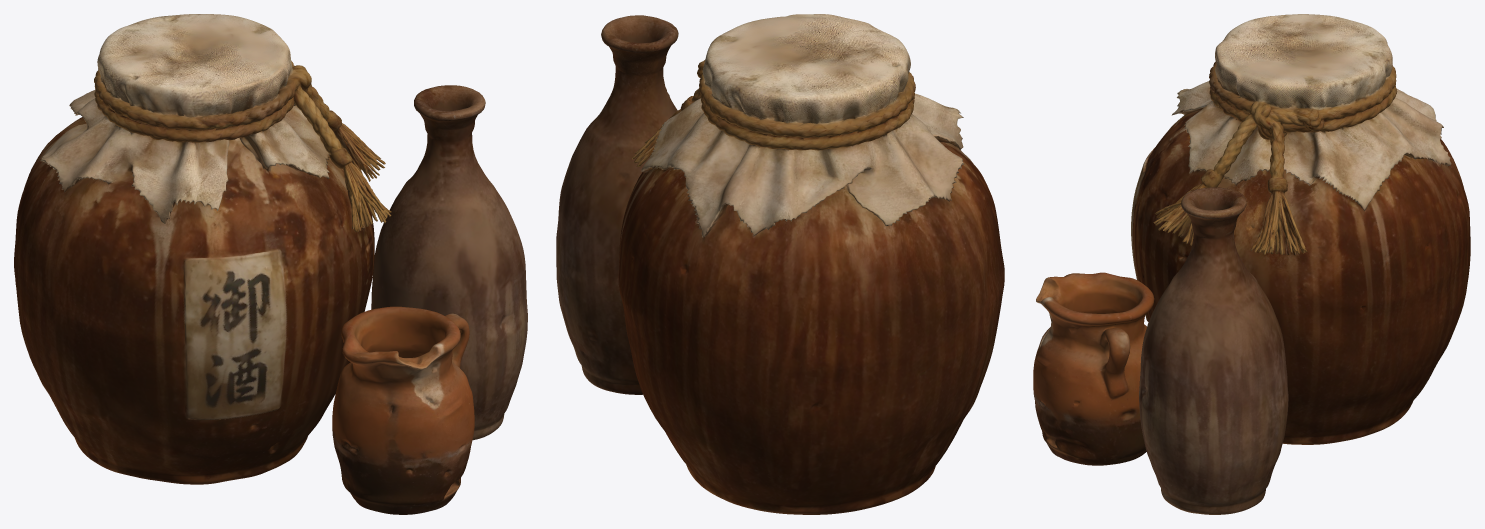
File: sake_jars.glb
The picture shows the model from 3 angles, left to right: view 1: azimuth 30°, elevation 25°; view 2: azimuth 150°, elevation 25°; view 3: azimuth 270°, elevation 25°; orthographic projection. The views are drawn at different scales.
Visible parts, largest first — view 1: tripo_node_5223b444-8729-4566-afae-b0a13880ffd7; view 2: tripo_node_5223b444-8729-4566-afae-b0a13880ffd7; view 3: tripo_node_5223b444-8729-4566-afae-b0a13880ffd7.
Boxes of the visible parts, x1=… form: tripo_node_5223b444-8729-4566-afae-b0a13880ffd7: x1=14, y1=14, x2=527, y2=514; tripo_node_5223b444-8729-4566-afae-b0a13880ffd7: x1=556, y1=14, x2=1004, y2=514; tripo_node_5223b444-8729-4566-afae-b0a13880ffd7: x1=1033, y1=14, x2=1470, y2=514.
Size of the model in its own units: 0.9793 by 0.8414 by 0.9332.
Materials: 1 (1 with a texture image).
